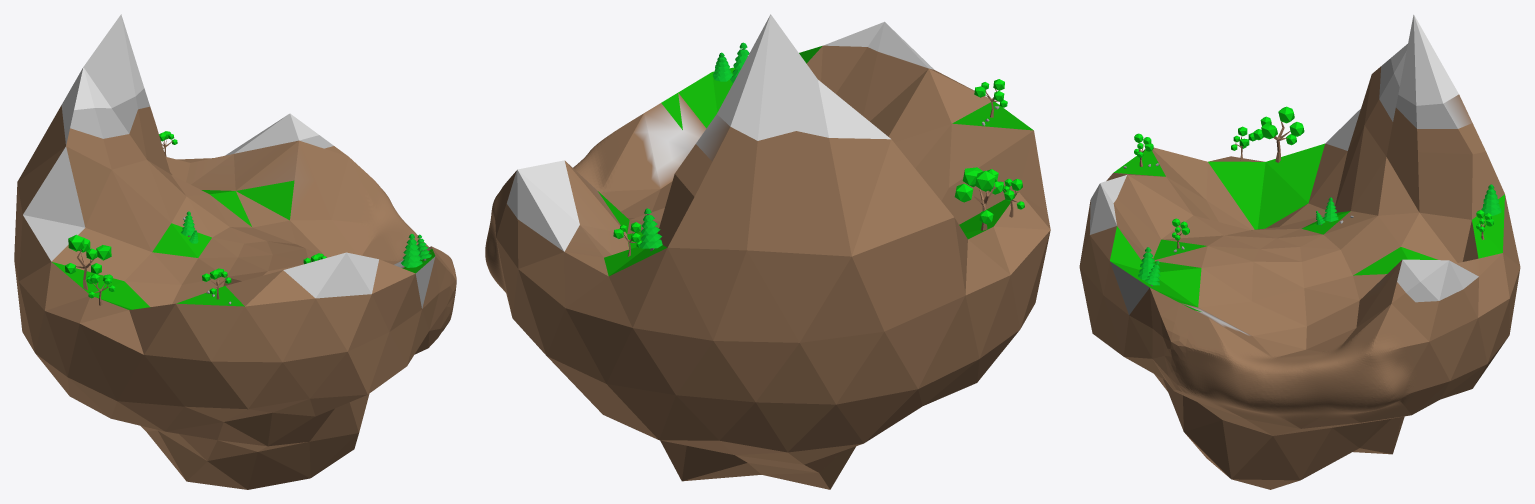
File: Low_Poly_Island_Ground.glb
The picture shows the model from 3 angles, left to right: view 1: azimuth 30°, elevation 25°; view 2: azimuth 150°, elevation 25°; view 3: azimuth 270°, elevation 25°; orthographic projection. The views are drawn at different scales.
Parts seen in each view (by area): view 1: Icosphere, Icosphere.001; view 2: Icosphere, Icosphere.001; view 3: Icosphere, Icosphere.001.
Part boxes in pixels (x1,y1,x2,y2): Icosphere: (14,88,456,489); Icosphere.001: (61,14,144,145); Icosphere: (485,21,1050,489); Icosphere.001: (717,14,890,140); Icosphere: (1079,58,1520,489); Icosphere.001: (1390,14,1458,105).
Size of the model in its own units: 19.77 by 21.37 by 20.
